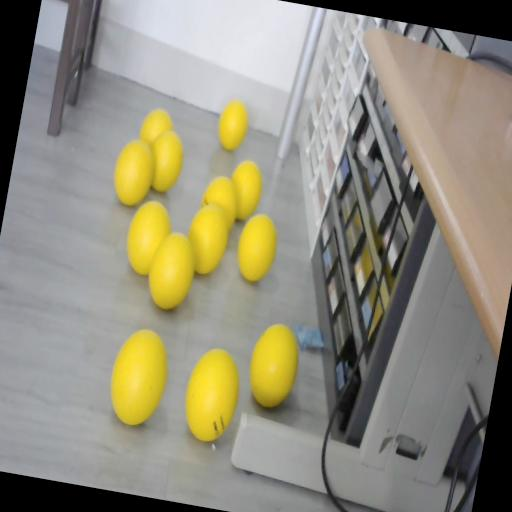FUEL: (103, 323, 174, 429), (176, 342, 246, 445), (243, 319, 304, 410), (120, 196, 174, 278), (181, 200, 234, 278), (232, 210, 282, 284), (108, 136, 158, 208), (144, 127, 188, 195), (224, 156, 266, 222), (214, 96, 252, 152)
